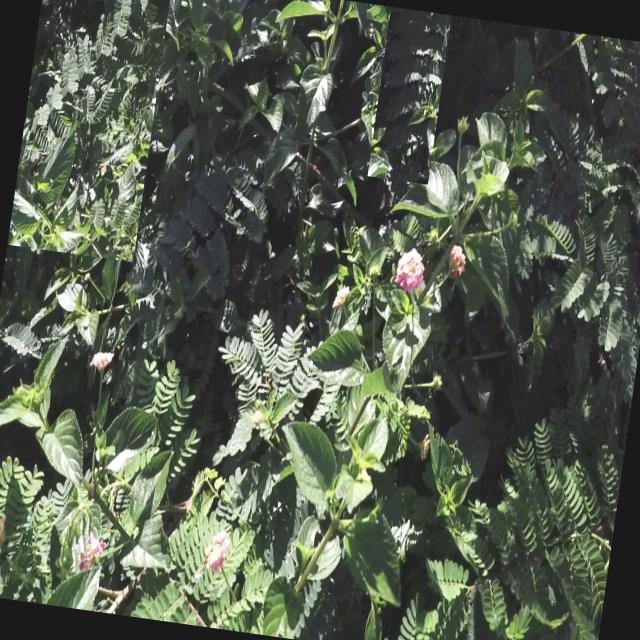Mysore-Thorn-Weed: (0, 326, 306, 636), (390, 401, 627, 640), (504, 29, 640, 384), (7, 0, 173, 262), (112, 114, 290, 352), (368, 7, 452, 185)
